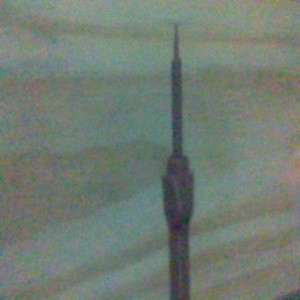solder: (160, 22, 196, 300)
